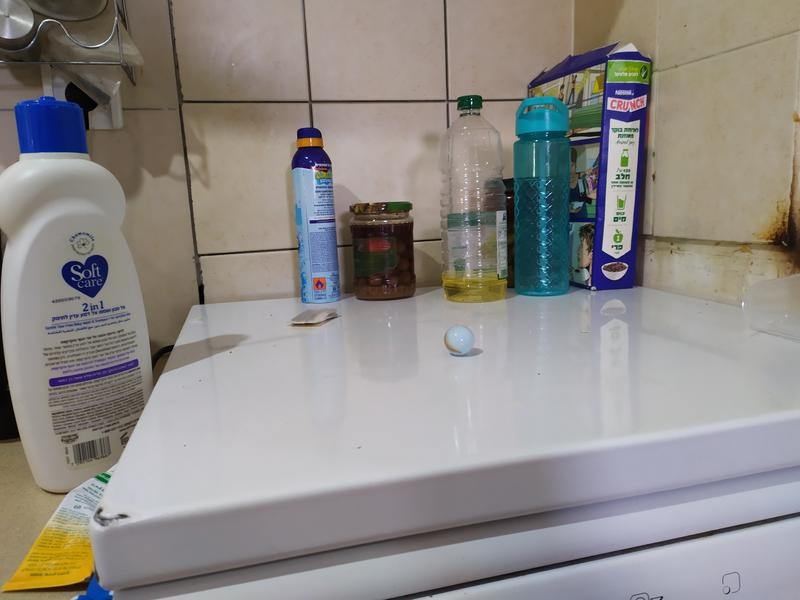Warning: (443, 322, 477, 357)
